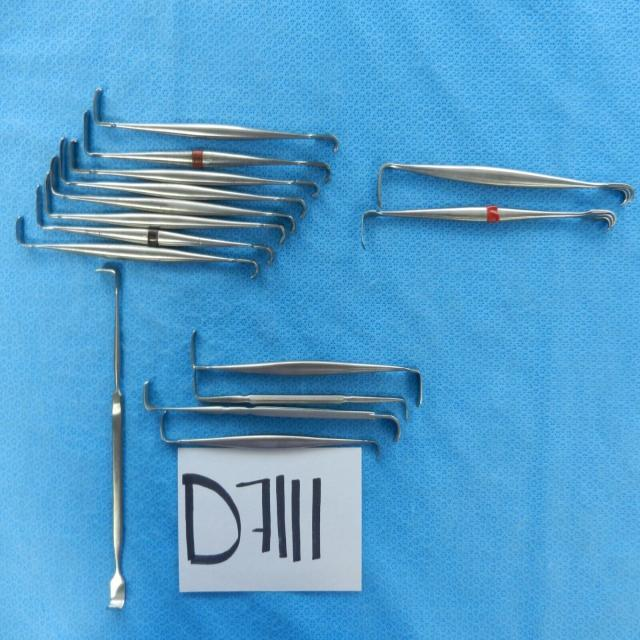Senn Retractor: (28, 176, 278, 270), (55, 130, 316, 220), (39, 158, 298, 246), (177, 327, 440, 407), (15, 208, 264, 286), (140, 374, 404, 446), (88, 82, 344, 153), (84, 110, 336, 182), (371, 140, 640, 204), (66, 131, 322, 197), (358, 200, 621, 260), (157, 403, 390, 465), (94, 260, 132, 608), (172, 368, 420, 419)
